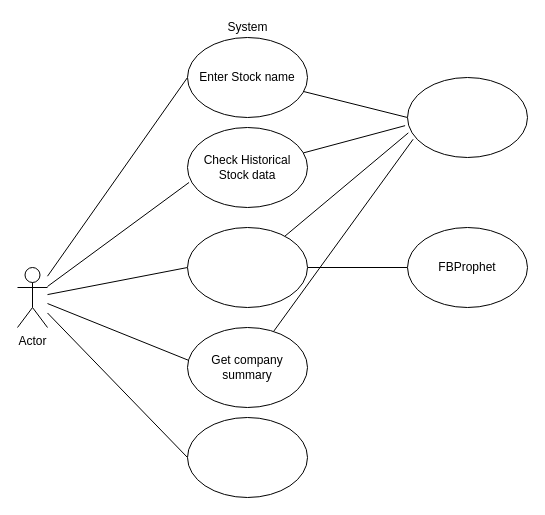
Image size: 545x515. Some labels were removed from this diagram. Here are the shapes that lost their labels. From the top down, the centre of each, then its label:
(467,117): YFinance
(247,267): get next day's closing prediction
(247,457): Save data
